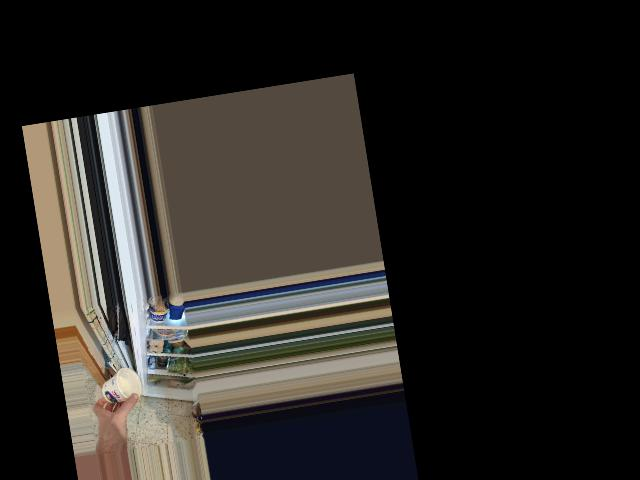cotage: (100, 369, 137, 404)
